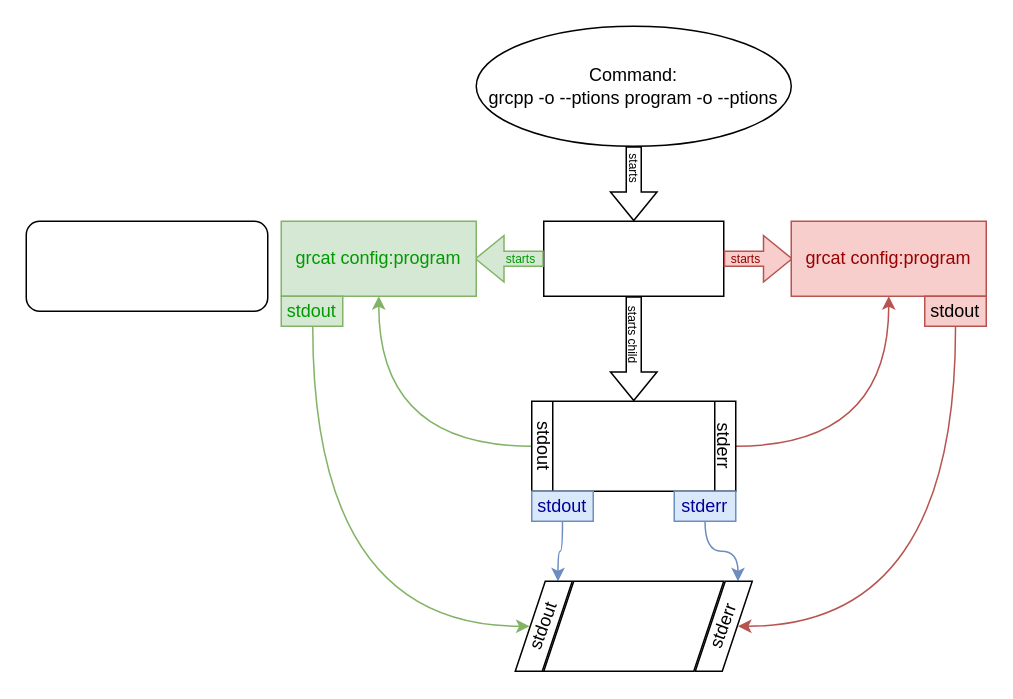
Image size: 1013x699. Some labels were removed from this diagram. Here are the shapes that lost their labels. From the top down, the box of each, then its label:
(25, 220, 268, 311): if grcpp redirects stdout if grcpp redirects stderr for non-redirected streams
(542, 220, 724, 296): grccpp -o --ptions
(530, 400, 736, 491): program -o --ptions
(542, 580, 724, 671): Terminal
